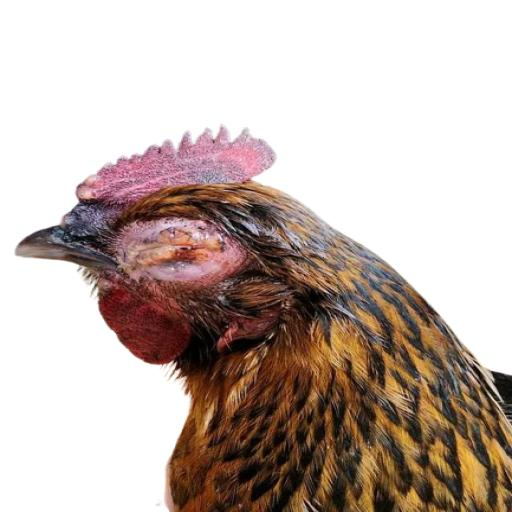disease: (118, 210, 244, 273), (51, 168, 128, 206)
